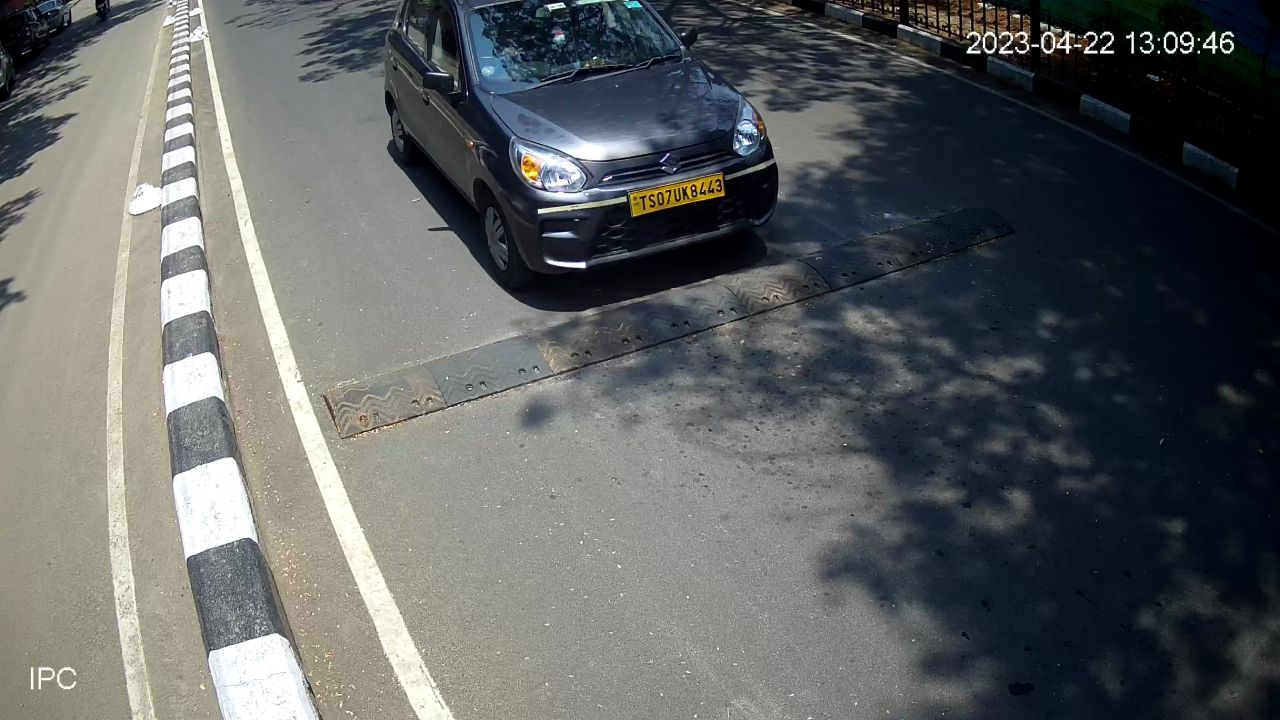license_plate: (622, 167, 731, 227)
